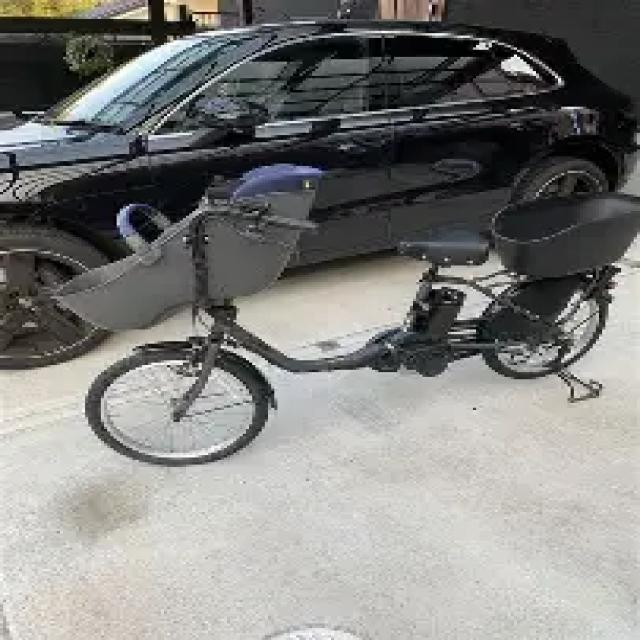battery: (412, 287, 462, 338)
childseat: (52, 157, 325, 336)
